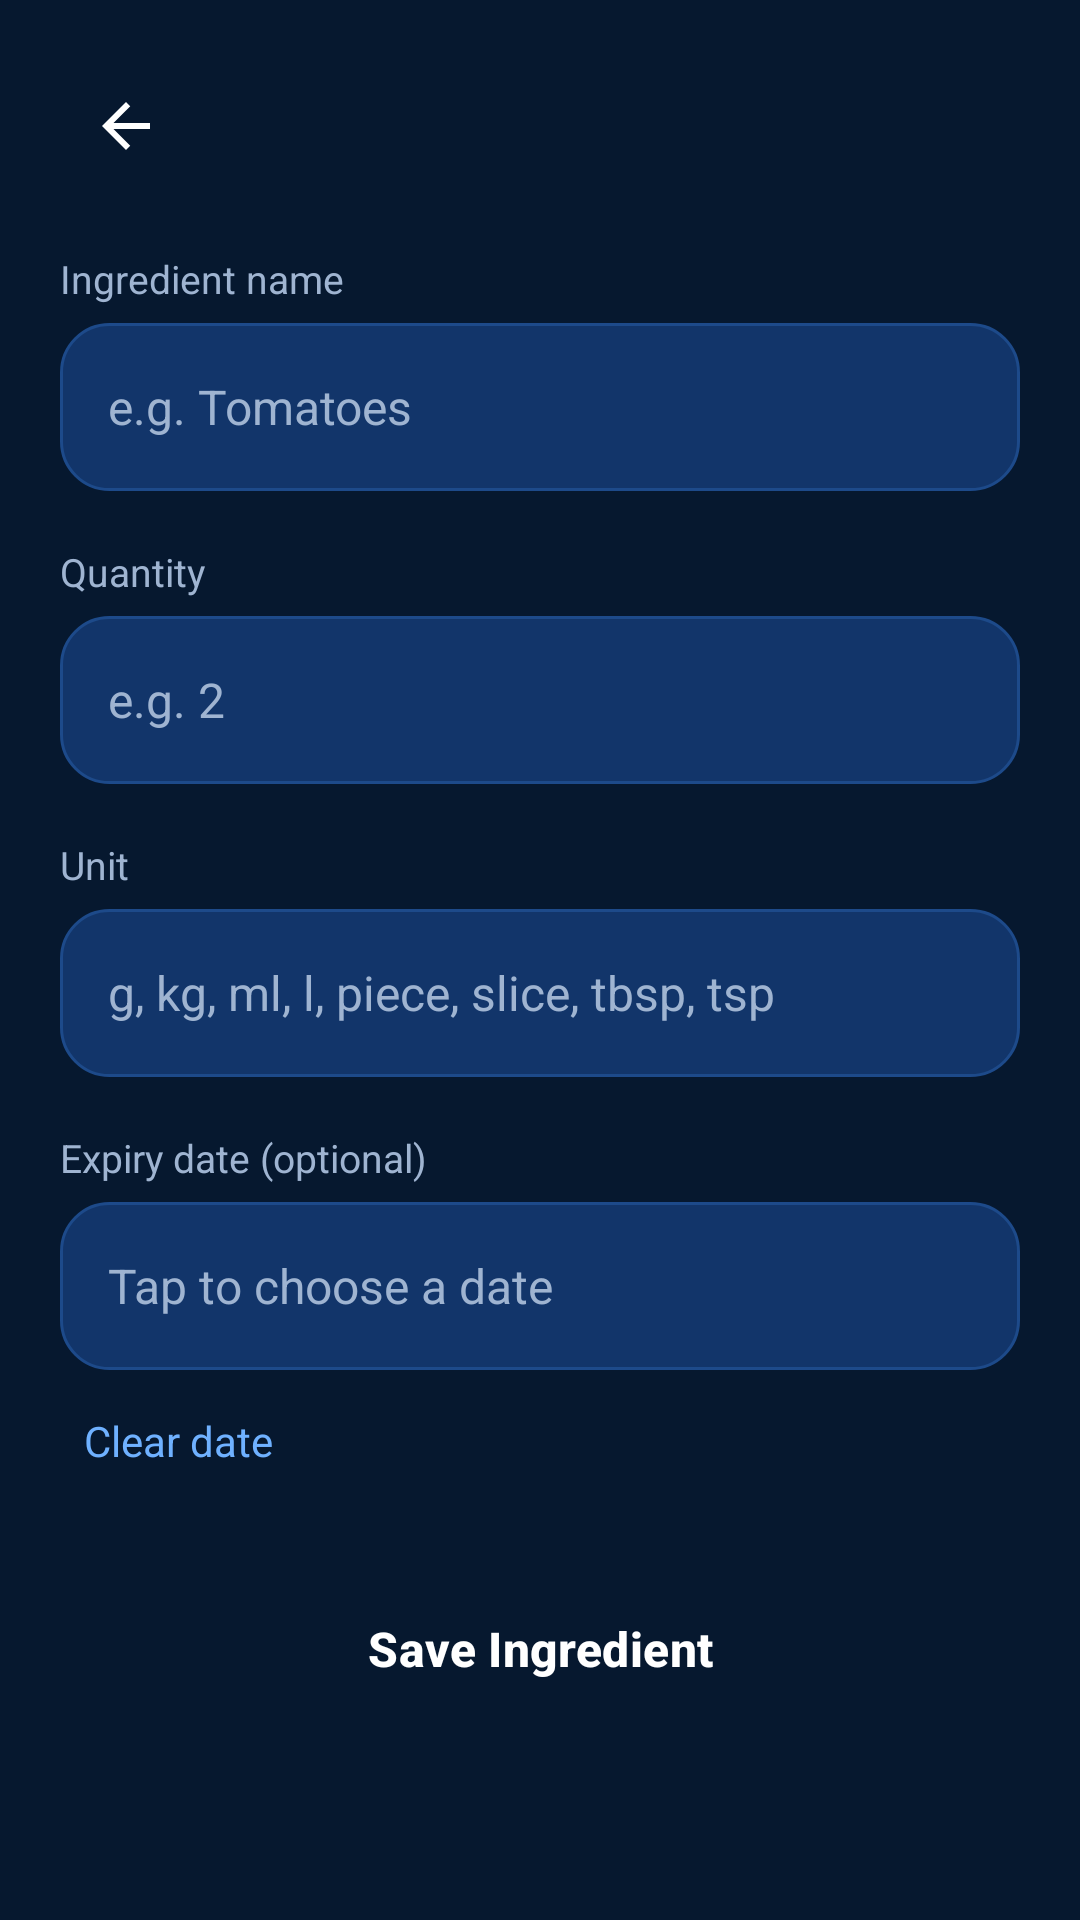

Named icons in this screenshot (1080 × 1920) and their centers, (x,y):
Back: (126,126)
